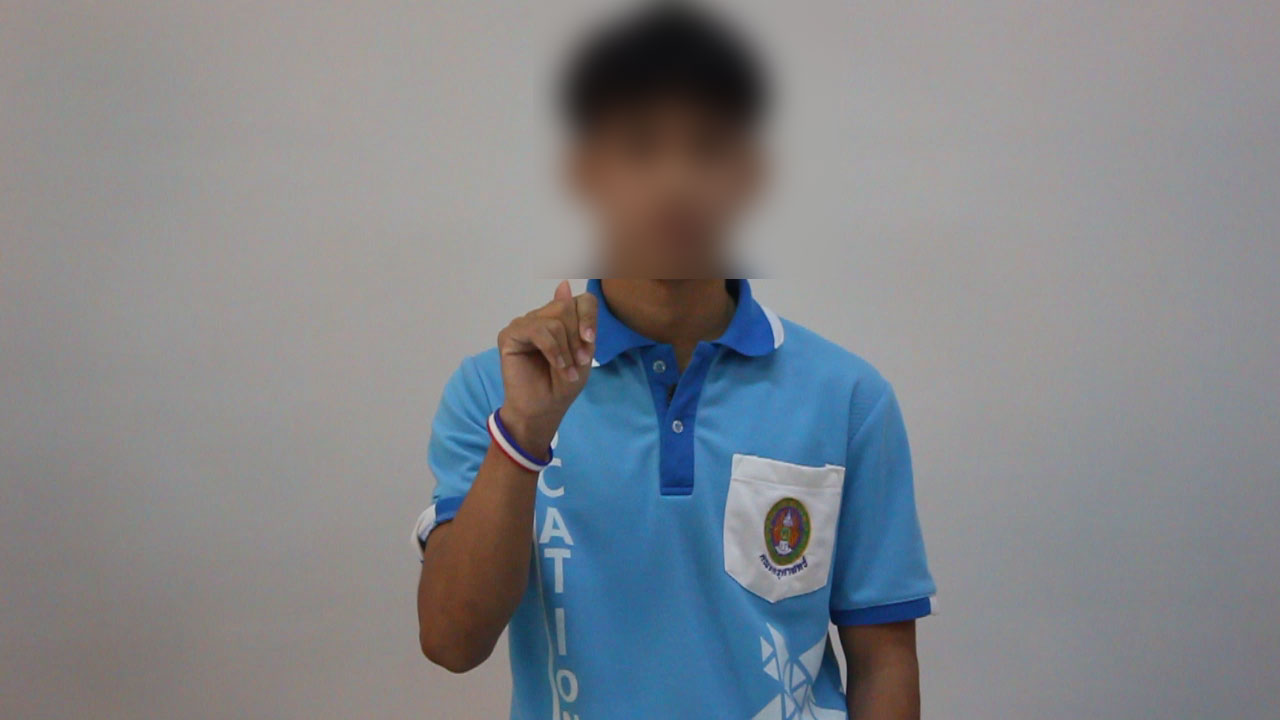tor: (487, 265, 632, 448)
